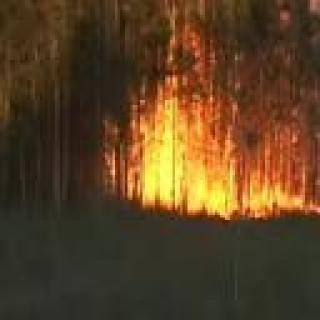fire: (125, 90, 320, 212)
